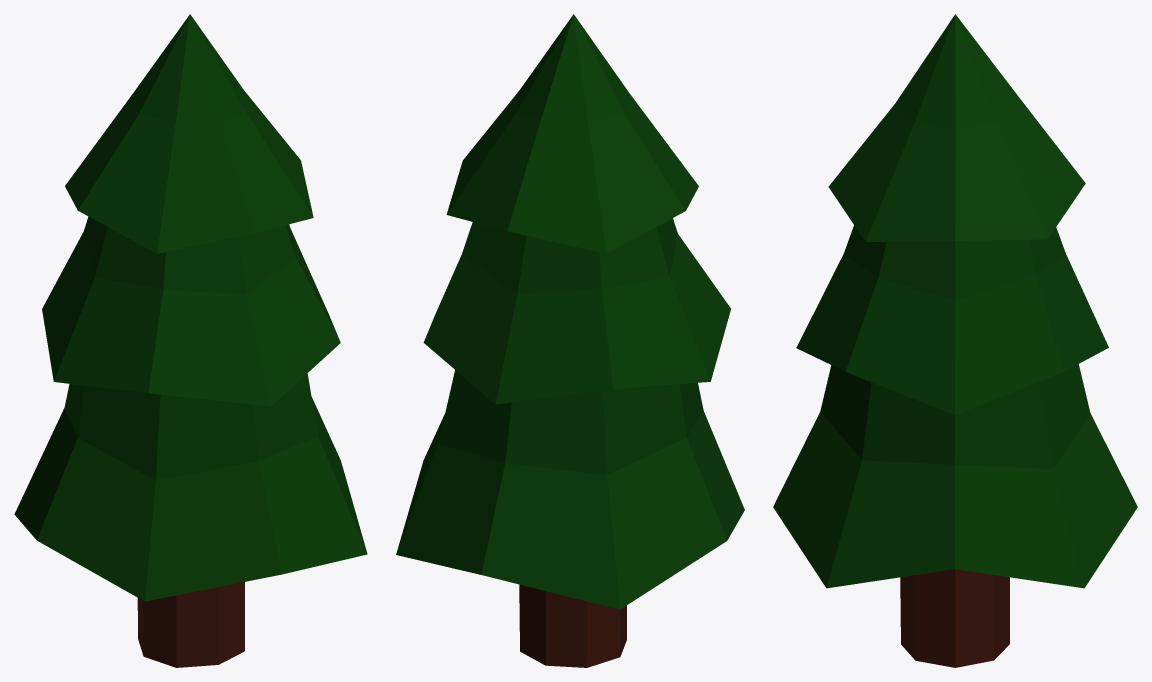
The picture shows the model from 3 angles, left to right: view 1: azimuth 30°, elevation 25°; view 2: azimuth 150°, elevation 25°; view 3: azimuth 270°, elevation 25°; orthographic projection.
Parts seen in each view (by area): view 1: Tree_01_summer_mat_Cylinder.010; view 2: Tree_01_summer_mat_Cylinder.010; view 3: Tree_01_summer_mat_Cylinder.010.
Part boxes in pixels (x1,y1,x2,y2): Tree_01_summer_mat_Cylinder.010: (14,14,367,667); Tree_01_summer_mat_Cylinder.010: (396,14,744,667); Tree_01_summer_mat_Cylinder.010: (773,14,1137,667).
Bounding box in the file's own units: 3.33 × 6.61 × 3.47.
